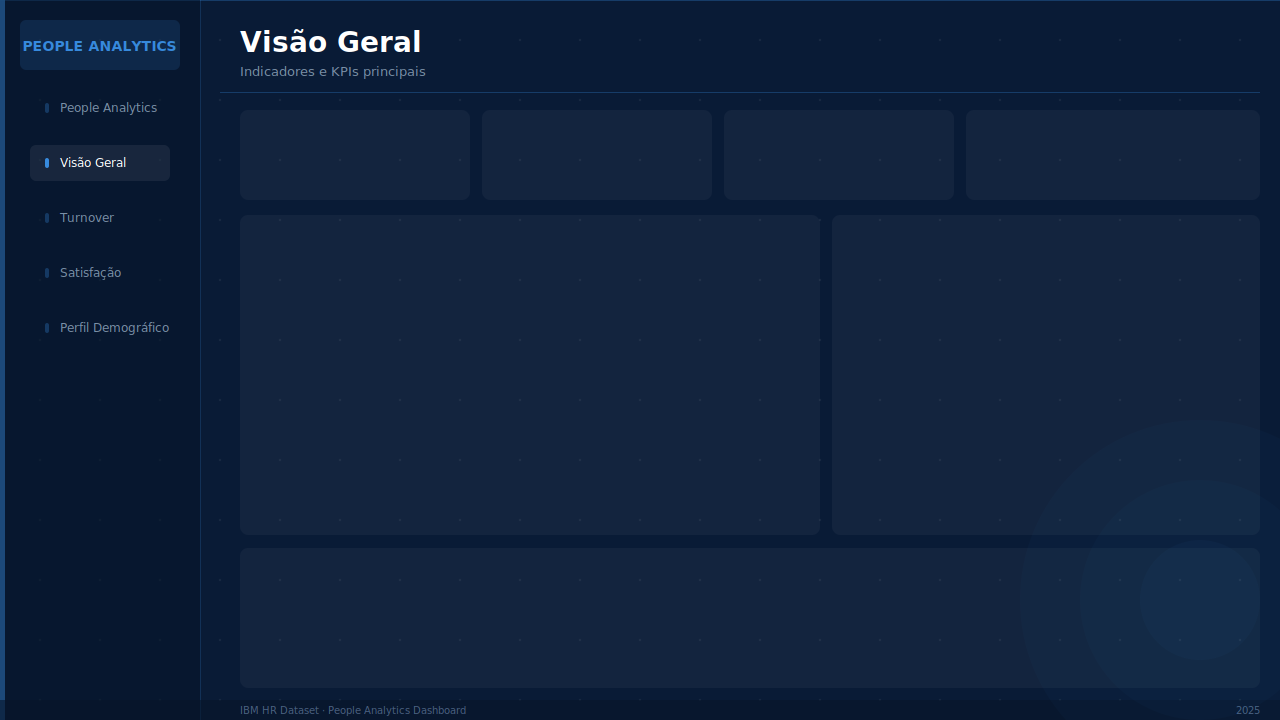

What the dashboard file says about the page in this screenshot:
{"tool":"powerbi","page":{"name":"Visão geral","canvas":[1280,720],"ordinal":1},"visuals":[{"type":"columnChart","fields":{"Category":["bancotraduzido.Departamento"],"Y":["Medidas.Taxa de Turnover"]},"box":[869.3,239,411.3,281.8],"z":0},{"type":"clusteredBarChart","title":"Média de Satisfação por Departamento","fields":{"Category":["bancotraduzido.Departamento"],"Y":["Medidas.Satisfação Ambiente","Medidas.Satisfação Relacionamentos","Medidas.Satisfação no Trabalho","Medidas.Equilíbrio Vida-Trabalho"]},"box":[239,225.7,586.2,309.8],"z":1000},{"type":"columnChart","fields":{"Y":["Medidas.Tempo Médio de Casa"],"Category":["bancotraduzido.Departamento"]},"box":[239,590.2,1041.6,129.5],"z":2000},{"type":"cardVisual","fields":{"Data":["Medidas.Total de Funcionários"]},"box":[239,82.8,231,101.5],"z":3000},{"type":"cardVisual","fields":{"Data":["Medidas.Desligados"]},"box":[532.8,77.4,208.3,106.8],"z":4000},{"type":"cardVisual","fields":{"Data":["Medidas.Taxa de Turnover"]},"box":[761.1,82.8,231,92.1],"z":5000},{"type":"cardVisual","fields":{"Data":["Medidas.Salário Médio"]},"box":[1049.6,84.1,231,92.1],"z":6000},{"type":"actionButton","box":[0,112.2,150.9,41.4],"z":7000},{"type":"actionButton","box":[0,176.3,150.9,40.1],"z":8000},{"type":"actionButton","box":[0,239,150.9,44.1],"z":9000},{"type":"actionButton","box":[0,301.8,174.9,46.7],"z":10000},{"type":"actionButton","box":[0,57.4,156.2,41.4],"z":11000}]}

Visuals, with their boxes on the page's 1280x720 design canvas (x1, y1, x2, y2). These are canvas units, not pixel positions in the 1280x720 screenshot, which may show the page scaled, cropped or inside an application window:
columnChart - bancotraduzido.Departamento x Medidas.Taxa de Turnover: rect(869, 239, 1281, 521)
"Média de Satisfação por Departamento" clusteredBarChart: rect(239, 226, 825, 536)
columnChart - Medidas.Tempo Médio de Casa x bancotraduzido.Departamento: rect(239, 590, 1281, 720)
cardVisual - Medidas.Total de Funcionários: rect(239, 83, 470, 184)
cardVisual - Medidas.Desligados: rect(533, 77, 741, 184)
cardVisual - Medidas.Taxa de Turnover: rect(761, 83, 992, 175)
cardVisual - Medidas.Salário Médio: rect(1050, 84, 1281, 176)
actionButton: rect(0, 112, 151, 154)
actionButton: rect(0, 176, 151, 216)
actionButton: rect(0, 239, 151, 283)
actionButton: rect(0, 302, 175, 348)
actionButton: rect(0, 57, 156, 99)
